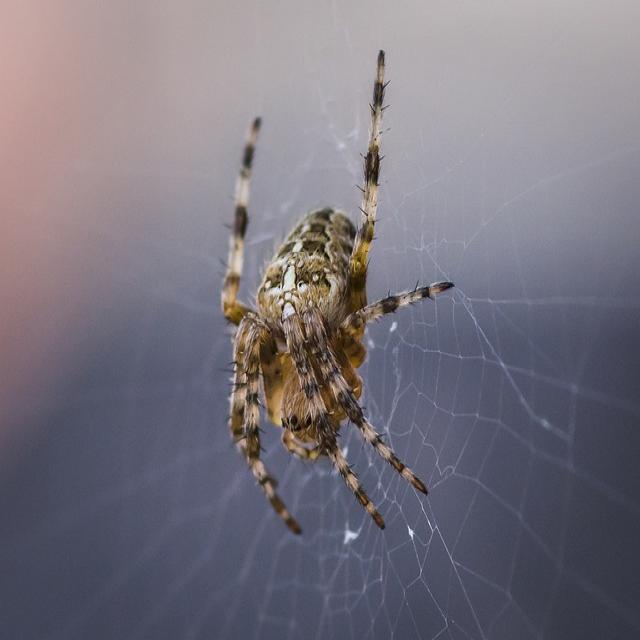spyder: (222, 56, 451, 536)
